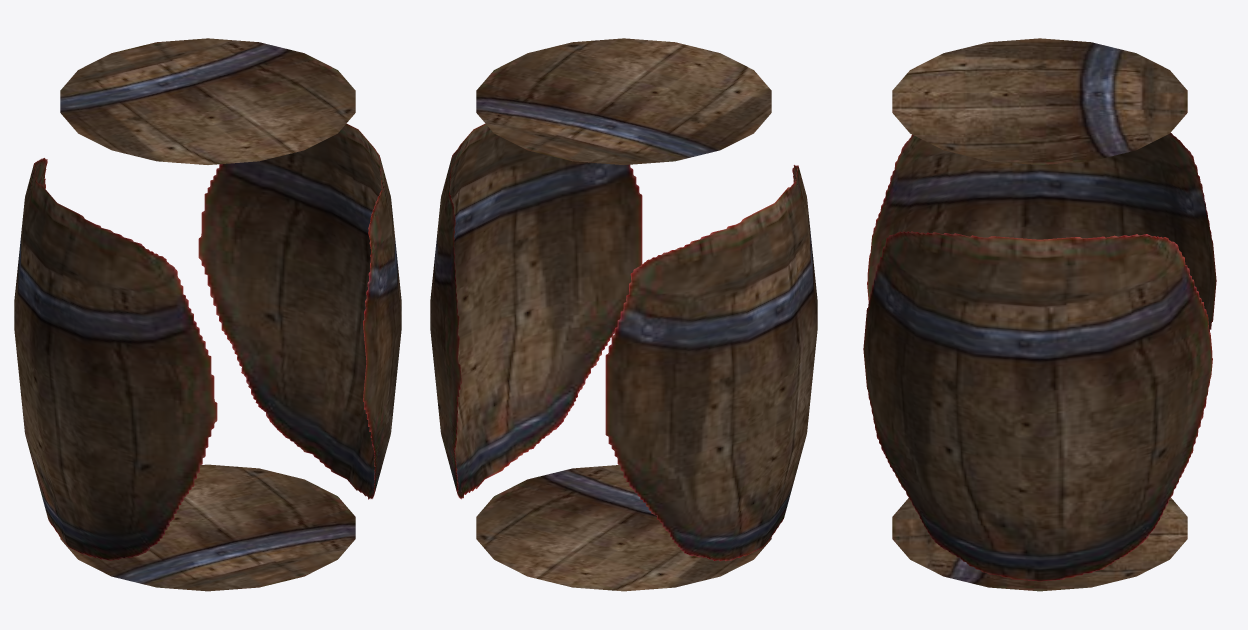
Rendered from Barrel.obj.
3 views of the same model, side by side, from view 1: azimuth 30°, elevation 25°; view 2: azimuth 150°, elevation 25°; view 3: azimuth 270°, elevation 25° (orthographic).
Parts seen in each view (by area): view 1: Cylinder001_Untitled.040; view 2: Cylinder001_Untitled.040; view 3: Cylinder001_Untitled.040.
Part boxes in pixels (<box>): Cylinder001_Untitled.040: <box>14,38,401,591</box>; Cylinder001_Untitled.040: <box>430,38,817,591</box>; Cylinder001_Untitled.040: <box>863,38,1216,591</box>.
Bounding box in the file's own units: 3 × 4 × 2.95.
